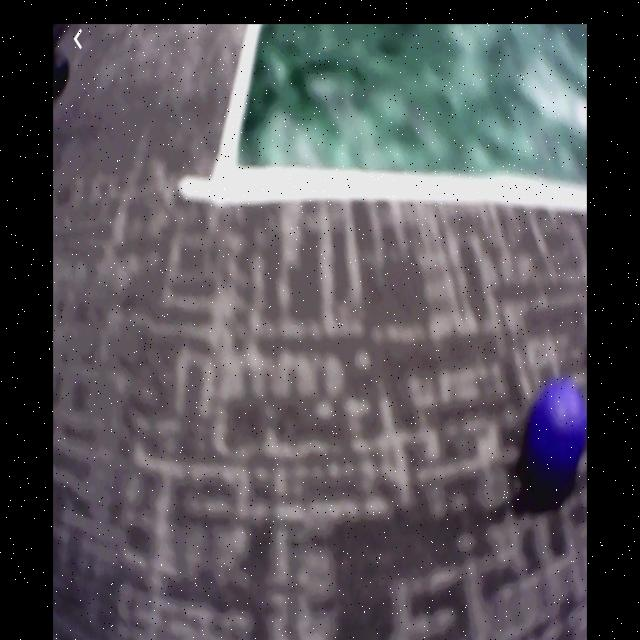ball: (525, 376, 587, 484)
